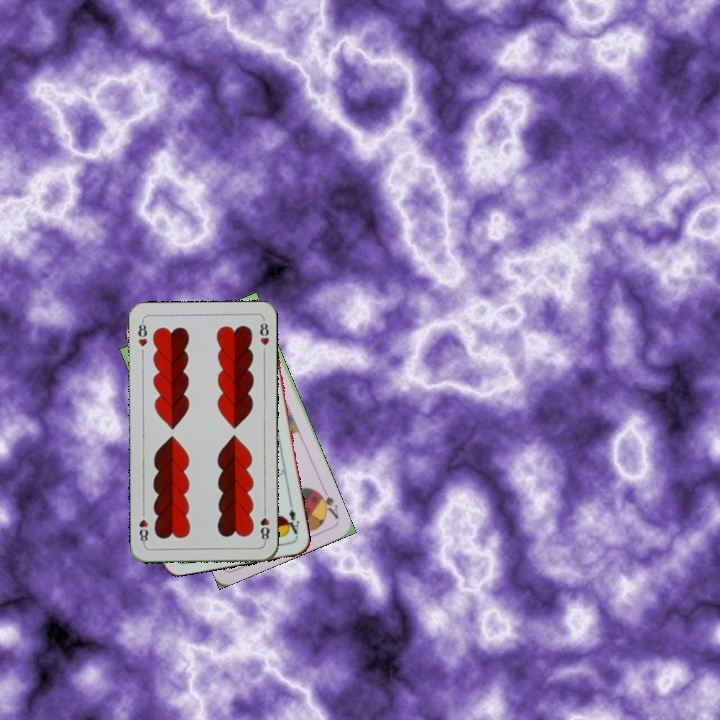EA: (282, 505, 302, 540)
H8: (256, 505, 272, 545), (134, 317, 150, 349)
SA: (313, 484, 341, 522)
